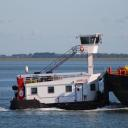tugboat: (10, 33, 113, 114)
